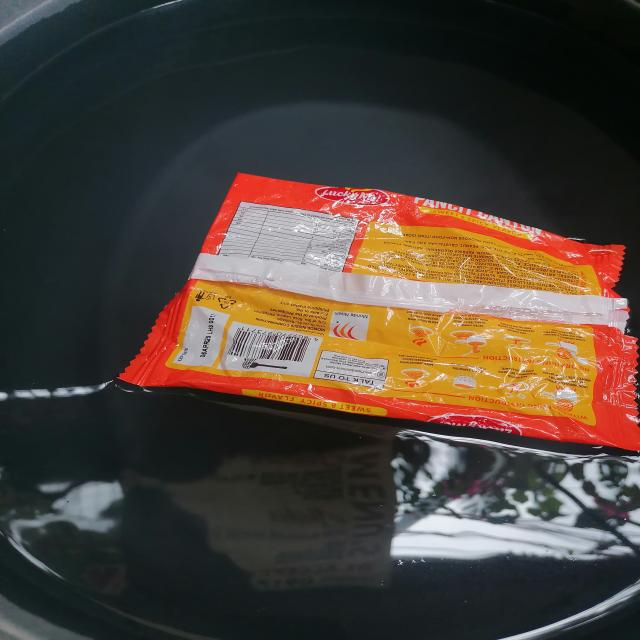Plastic Wrapper: (102, 157, 640, 470)
